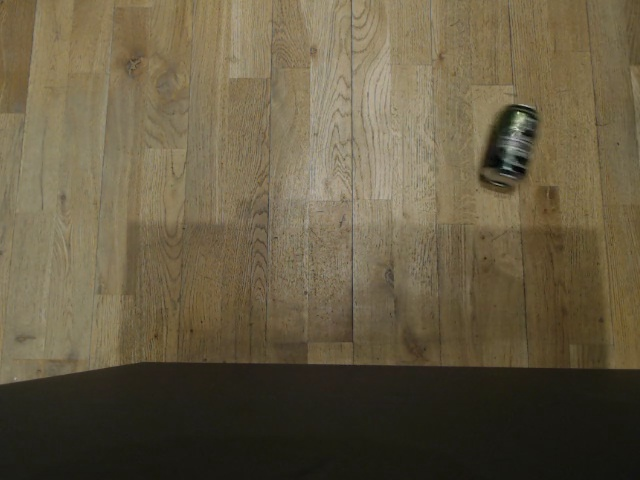beer: (476, 100, 538, 190)
